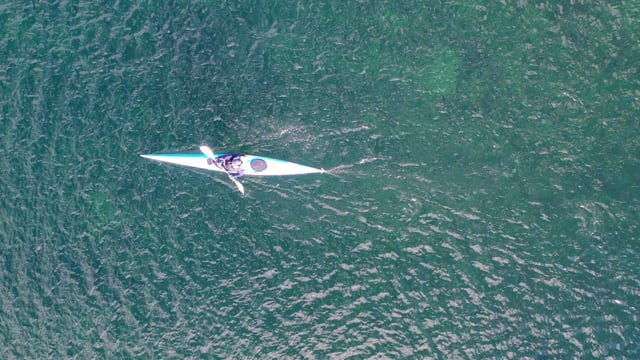kayaker: (137, 143, 330, 195)
